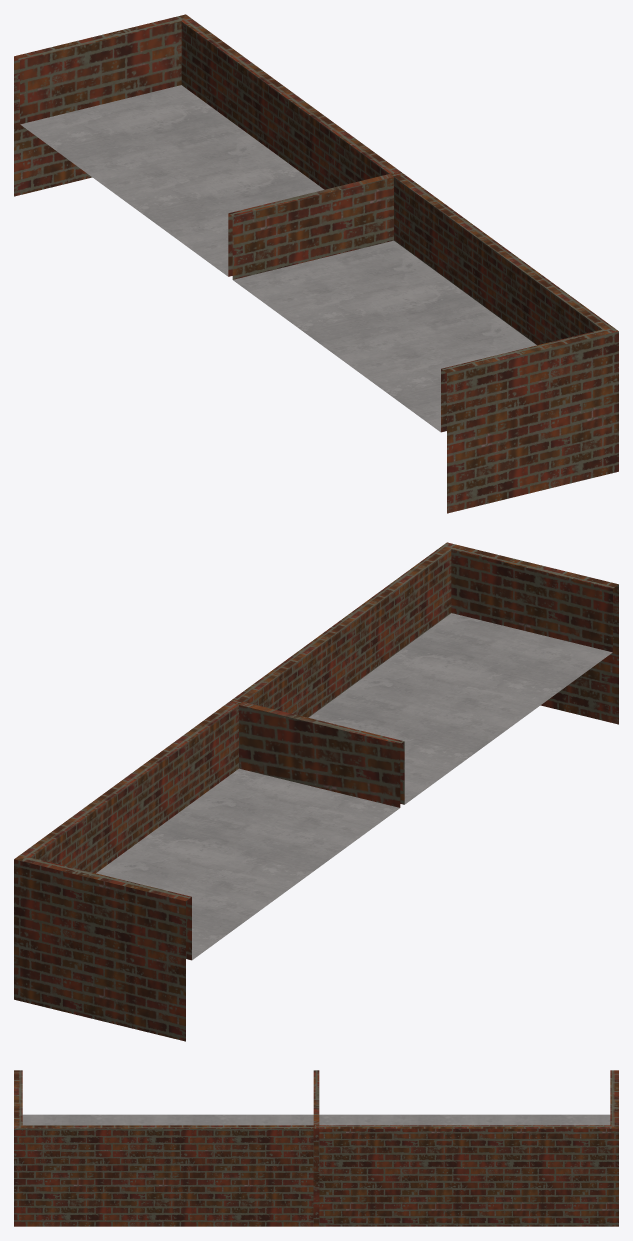
Rendered from balcony.fbx.
The picture shows the model from 3 angles, top to bottom: view 1: azimuth 30°, elevation 25°; view 2: azimuth 150°, elevation 25°; view 3: azimuth 270°, elevation 25°; orthographic projection. The views are drawn at different scales.
Visible parts, largest first — view 1: balcony; view 2: balcony; view 3: balcony.
Part boxes in pixels (x1,y1,x2,y2): balcony: (14,14,618,513); balcony: (14,542,618,1041); balcony: (14,1070,618,1226).
Bounding box in the file's own units: 541 × 422 × 2360.
Materials: 1 (1 with a texture image).
